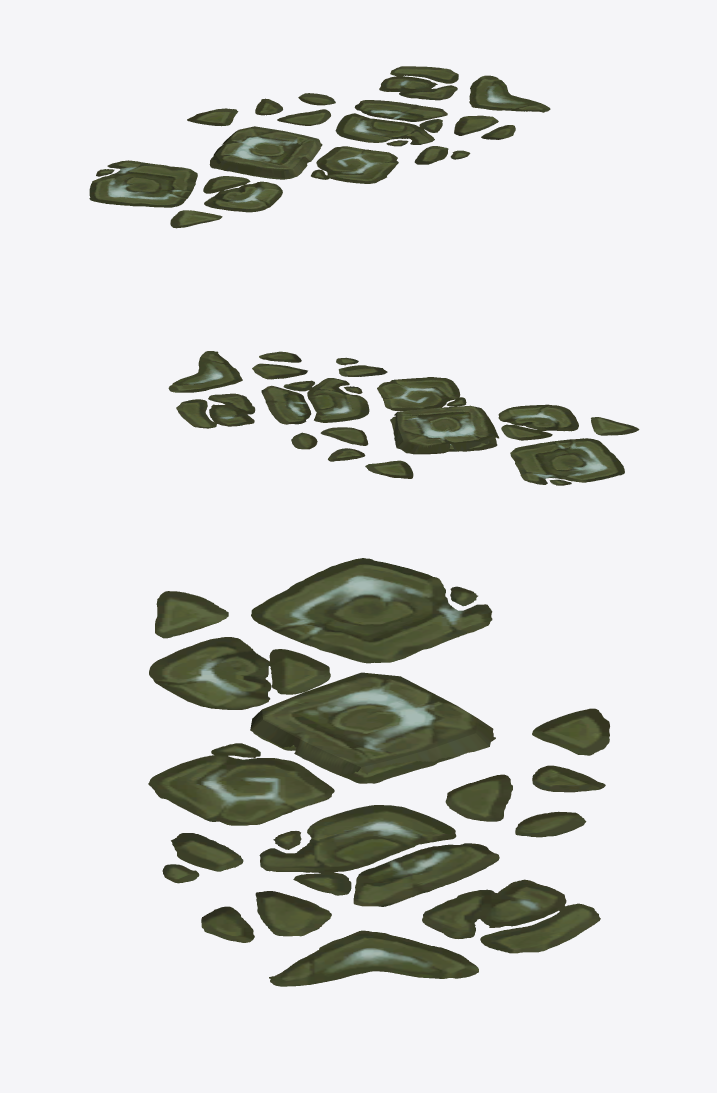
Rendered from pavers_straight_snow_03.fbx.
3 renders of one model, top to bottom at view 1: azimuth 30°, elevation 25°; view 2: azimuth 150°, elevation 25°; view 3: azimuth 270°, elevation 25°, orthographic. The views are drawn at different scales.
Visible parts, largest first — view 1: obj0.105; view 2: obj0.105; view 3: obj0.105.
Part boxes in pixels (x1,y1,x2,y2): obj0.105: [89, 66, 550, 228]; obj0.105: [168, 351, 639, 485]; obj0.105: [148, 558, 609, 986].
Size of the model in its own units: 9.98 by 0.1134 by 5.02.
